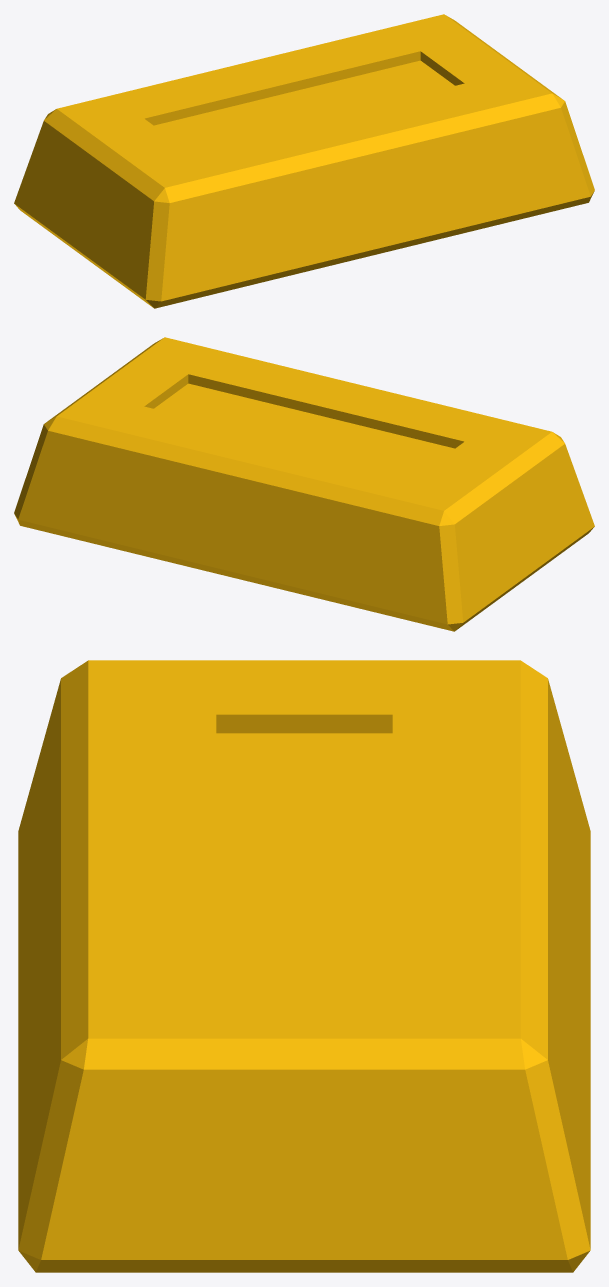
The model's file is gold_ingot.glb.
3 renders of one model, top to bottom at view 1: azimuth 30°, elevation 25°; view 2: azimuth 150°, elevation 25°; view 3: azimuth 270°, elevation 25°, orthographic. The views are drawn at different scales.
Visible parts, largest first — view 1: Cube; view 2: Cube; view 3: Cube.
Part boxes in pixels (bbox=[...]): Cube: bbox=[14, 14, 594, 308]; Cube: bbox=[14, 337, 594, 631]; Cube: bbox=[18, 660, 590, 1272].
Size of the model in its own units: 0.3995 by 0.0897 by 0.2204.
